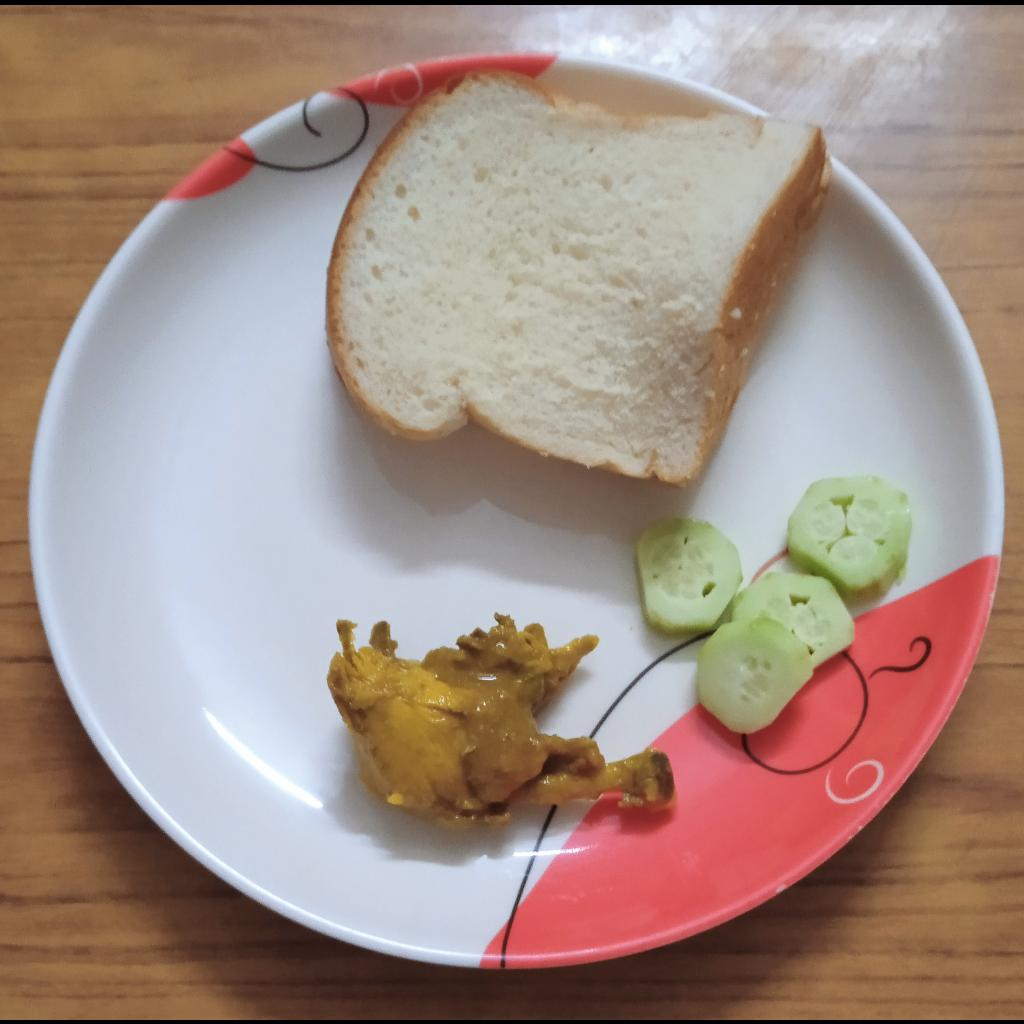bread: (324, 65, 832, 482)
chicken: (324, 611, 679, 830)
cucumber: (633, 471, 912, 737)
